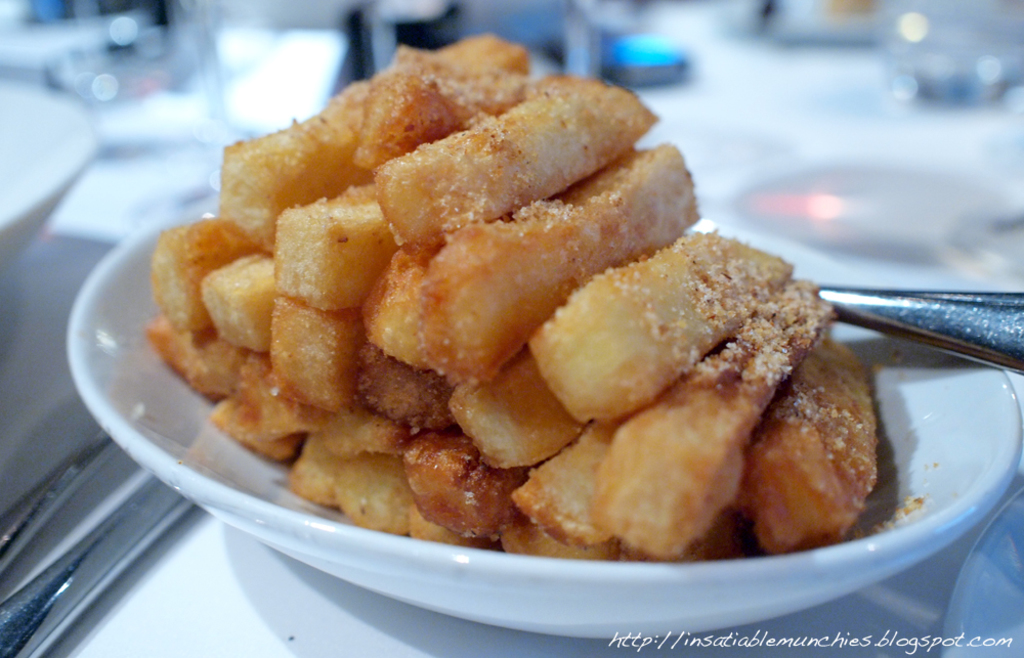French fries: (128, 20, 880, 577)
